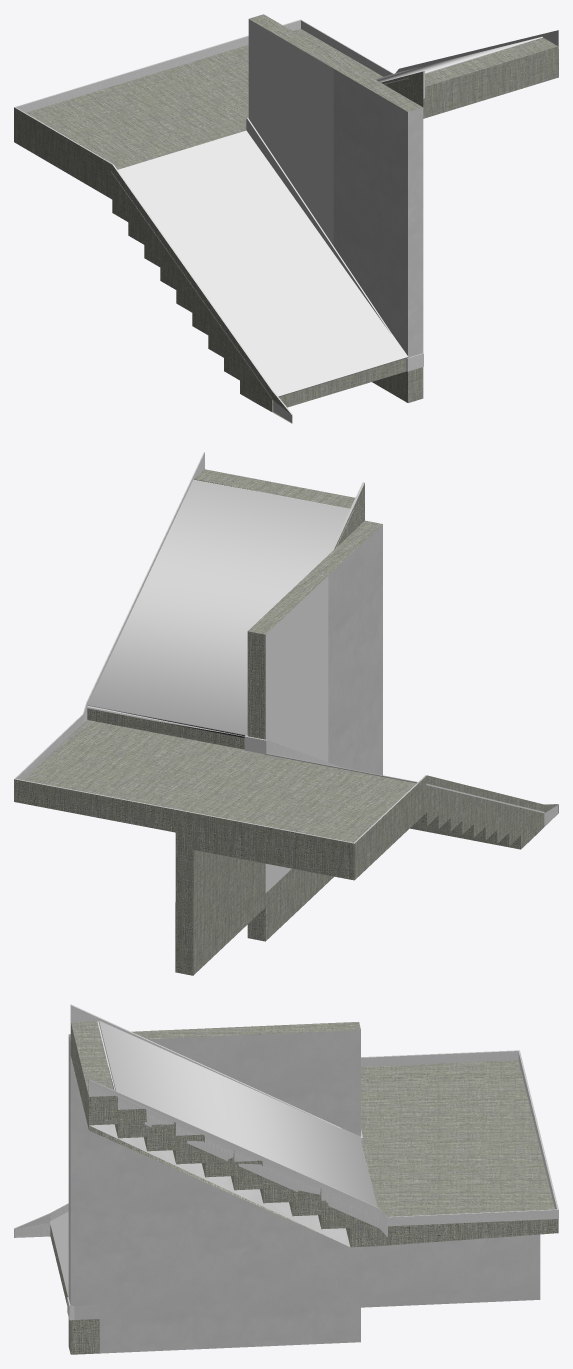
Rendered from 2_to_1_stair_1_sized.glb.
3 views of the same model, one above another, from view 1: azimuth 30°, elevation 25°; view 2: azimuth 150°, elevation 25°; view 3: azimuth 270°, elevation 25° (orthographic). The views are drawn at different scales.
Parts seen in each view (by area): view 1: NOCOL_Cube_073, SIMP_COL; view 2: NOCOL_Cube_073, SIMP_COL; view 3: NOCOL_Cube_073, SIMP_COL.
Part boxes in pixels (bbox=[...]): NOCOL_Cube_073: bbox=[14, 14, 558, 423]; SIMP_COL: bbox=[17, 19, 558, 421]; NOCOL_Cube_073: bbox=[14, 452, 558, 975]; SIMP_COL: bbox=[16, 453, 558, 892]; NOCOL_Cube_073: bbox=[14, 1004, 558, 1354]; SIMP_COL: bbox=[14, 1006, 558, 1320].
Size of the model in its own units: 4.26 by 3.87 by 5.45.
Materials: 6 (3 with a texture image).
